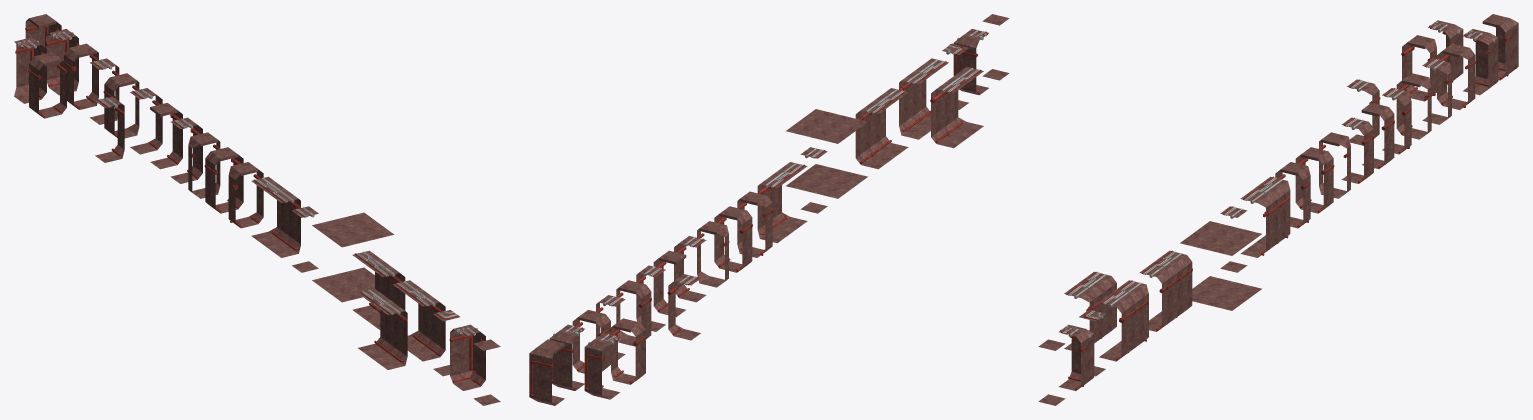
File: extended-tileset.glb
3 views of the same model, side by side, from view 1: azimuth 30°, elevation 25°; view 2: azimuth 150°, elevation 25°; view 3: azimuth 330°, elevation 25° (orthographic).
Parts seen in each view (by area): view 1: room-col, corner-corridor-col, corner-corridor-alt-col, corner-corridor-both-col, outer-corner-col, corridor-col, hallway-corner-alt-col, outer-corner-notched-alt-col, hallway-col, hallway-end-col, hallway-corner-col, outer-corner-notched-col (+8 smaller); view 2: room-col, corridor-col, corner-corridor-col, corner-corridor-alt-col, corner-corridor-both-col, hallway-outer-corner-col, hallway-col, hallway-corner-alt-col, outer-corner-notched-alt-col, outer-corner-notched-col, outer-corner-col, hallway-bend-col (+7 smaller); view 3: room-col, corridor-col, corner-corridor-alt-col, corner-corridor-both-col, corner-corridor-col, outer-corner-col, outer-corner-notched-col, hallway-outer-corner-col, hallway-col, hallway-corner-col, hallway-corner-alt-col, hallway-bend-col (+8 smaller).
Part boxes in pixels (bbox=[...]): room-col: bbox=[312, 212, 393, 302]; corner-corridor-col: bbox=[358, 289, 407, 369]; corner-corridor-alt-col: bbox=[393, 280, 445, 361]; corner-corridor-both-col: bbox=[251, 176, 300, 257]; outer-corner-col: bbox=[449, 324, 485, 390]; corridor-col: bbox=[352, 250, 405, 329]; hallway-corner-alt-col: bbox=[28, 52, 67, 118]; outer-corner-notched-alt-col: bbox=[14, 37, 46, 103]; hallway-col: bbox=[204, 147, 243, 213]; hallway-end-col: bbox=[228, 162, 263, 228]; hallway-corner-col: bbox=[64, 43, 98, 109]; outer-corner-notched-col: bbox=[45, 29, 79, 95]; room-col: bbox=[786, 109, 867, 198]; corridor-col: bbox=[855, 88, 908, 169]; corner-corridor-col: bbox=[930, 67, 983, 148]; corner-corridor-alt-col: bbox=[899, 58, 948, 139]; corner-corridor-both-col: bbox=[757, 162, 807, 243]; hallway-outer-corner-col: bbox=[529, 339, 565, 405]; hallway-col: bbox=[714, 206, 752, 272]; hallway-corner-alt-col: bbox=[610, 318, 646, 384]; outer-corner-notched-alt-col: bbox=[584, 333, 619, 399]; outer-corner-notched-col: bbox=[549, 324, 584, 390]; outer-corner-col: bbox=[953, 29, 988, 95]; hallway-bend-col: bbox=[616, 280, 651, 346]; room-col: bbox=[1180, 221, 1261, 310]; corridor-col: bbox=[1139, 250, 1192, 331]; corner-corridor-alt-col: bbox=[1099, 280, 1148, 361]; corner-corridor-both-col: bbox=[1240, 176, 1290, 257]; corner-corridor-col: bbox=[1064, 271, 1116, 350]; outer-corner-col: bbox=[1059, 324, 1094, 390]; outer-corner-notched-col: bbox=[1463, 29, 1498, 95]; hallway-outer-corner-col: bbox=[1482, 14, 1518, 80]; hallway-col: bbox=[1295, 147, 1334, 213]; hallway-corner-col: bbox=[1437, 43, 1475, 109]; hallway-corner-alt-col: bbox=[1401, 35, 1436, 101]; hallway-bend-col: bbox=[1396, 73, 1431, 139].
Size of the model in its own units: 5.37 by 3.11 by 45.37.
1 material, 1 textured.
